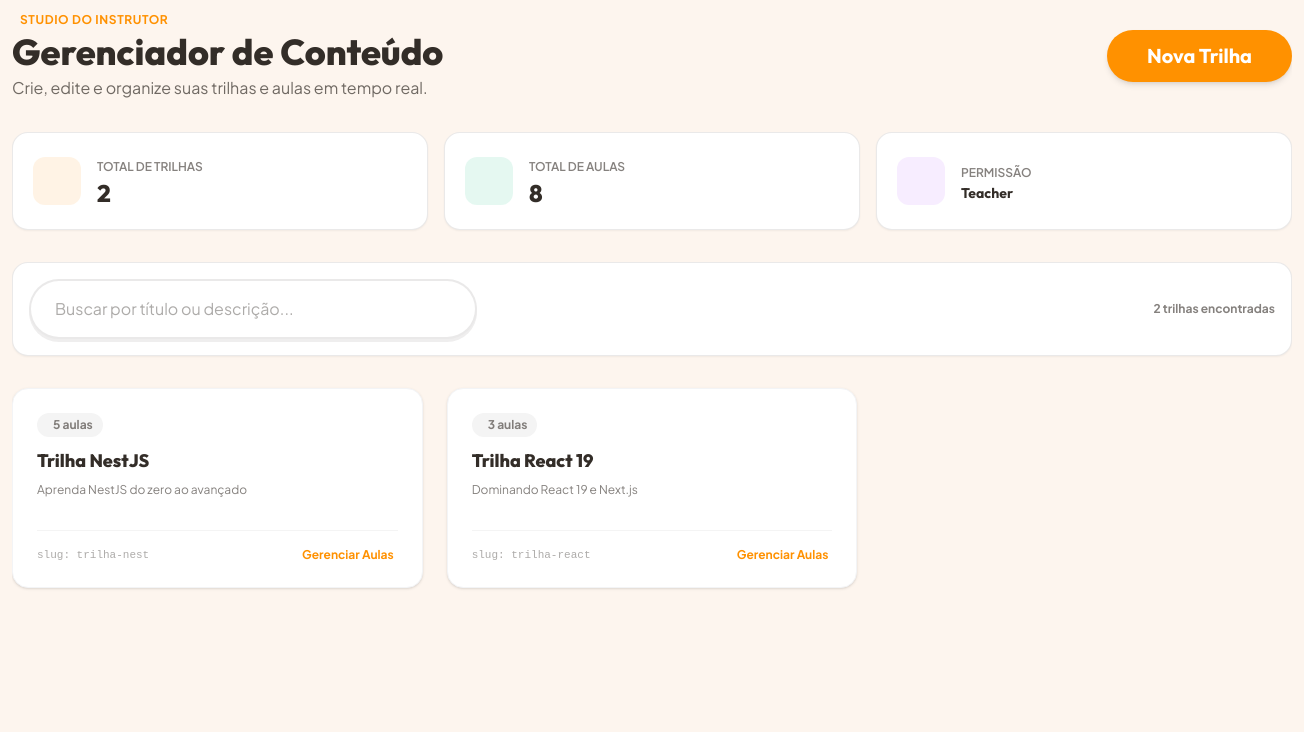
Scenario: StudioTracksClient › should filter tracks by search term
Type "React" into the field with placeholder "Buscar por título ou descrição...".
click(253, 309); type("React")  # box [55, 297, 451, 321]
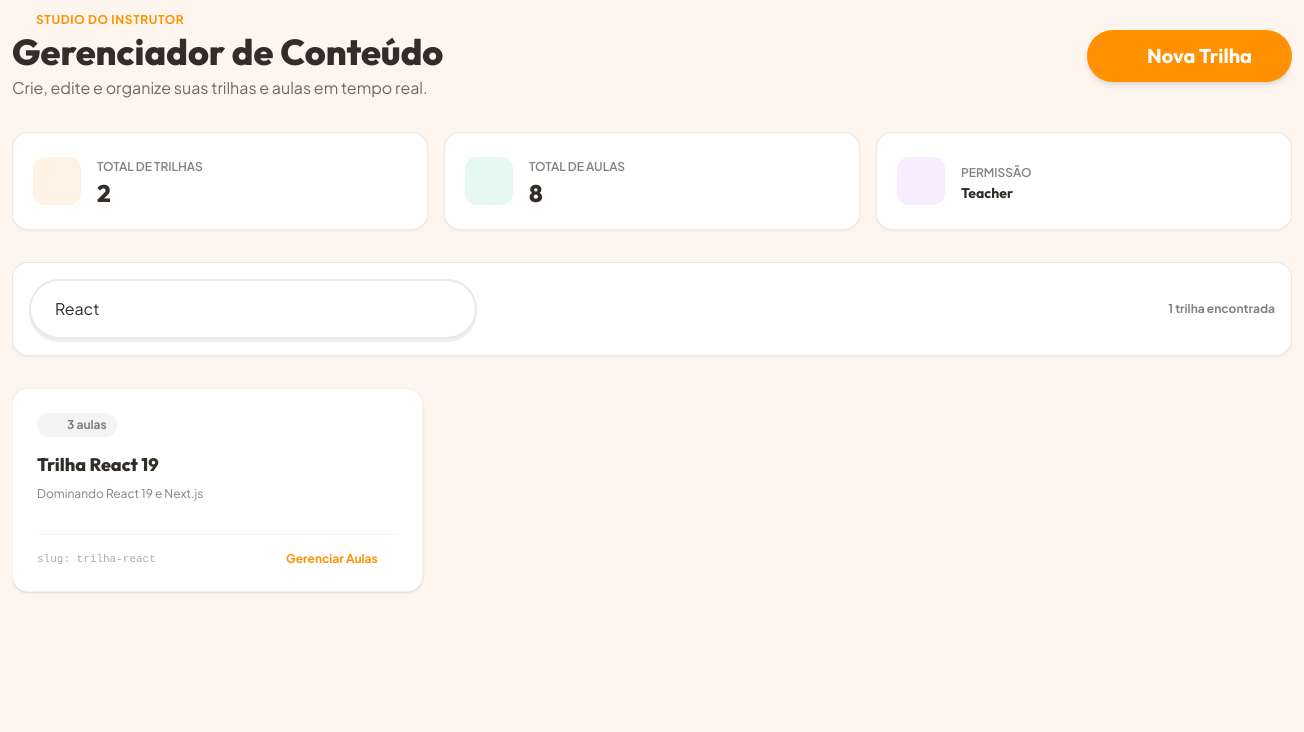
Expected: the heading "Trilha React 19" is shown, [37, 453, 159, 476]
Expected: the heading "Trilha NestJS" is gone
